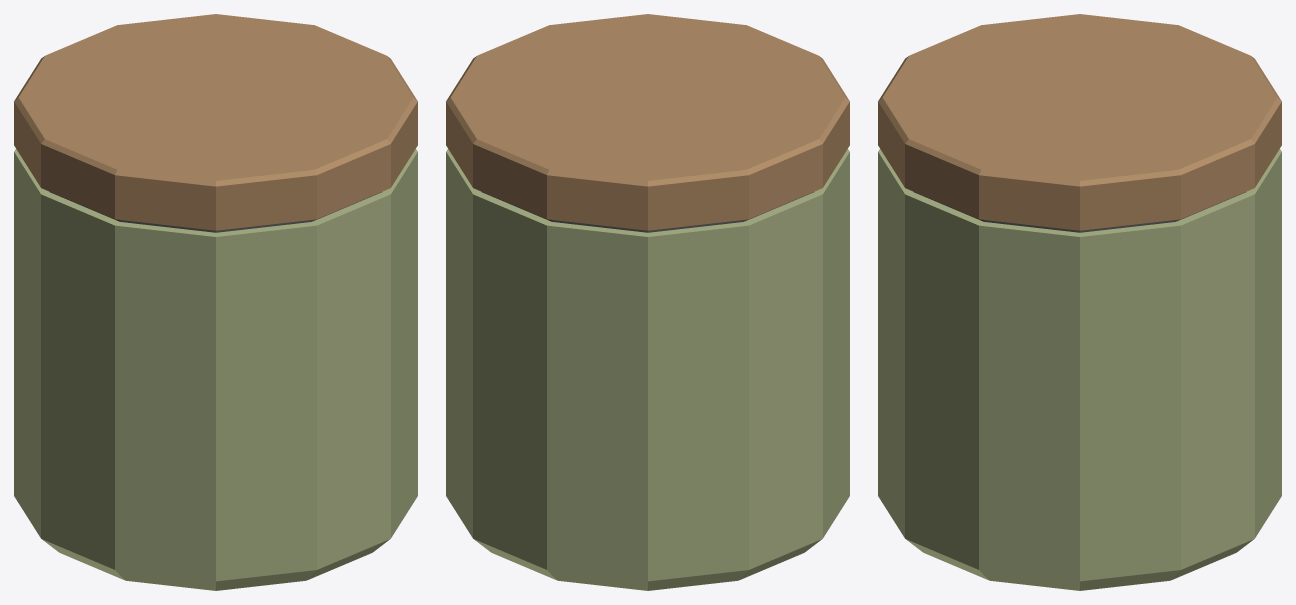
The model's file is KitchenProps_19.fbx.
The picture shows the model from 3 angles, left to right: view 1: azimuth 30°, elevation 25°; view 2: azimuth 150°, elevation 25°; view 3: azimuth 270°, elevation 25°; orthographic projection.
Parts seen in each view (by area): view 1: KitchenProps_19; view 2: KitchenProps_19; view 3: KitchenProps_19.
Boxes of the visible parts, left/top/right/bottom form: KitchenProps_19: left=14, top=14, right=417, bottom=590; KitchenProps_19: left=446, top=14, right=849, bottom=590; KitchenProps_19: left=878, top=14, right=1281, bottom=590.
Bounding box in the file's own units: 9.62 × 10.97 × 9.62.
